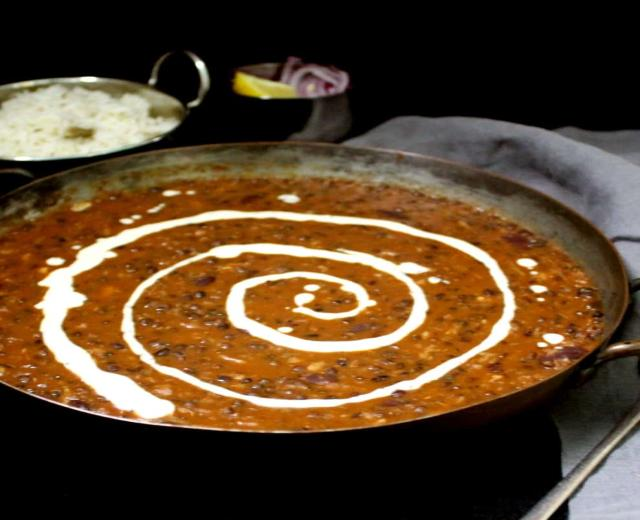dal makhni: (0, 149, 608, 430)
